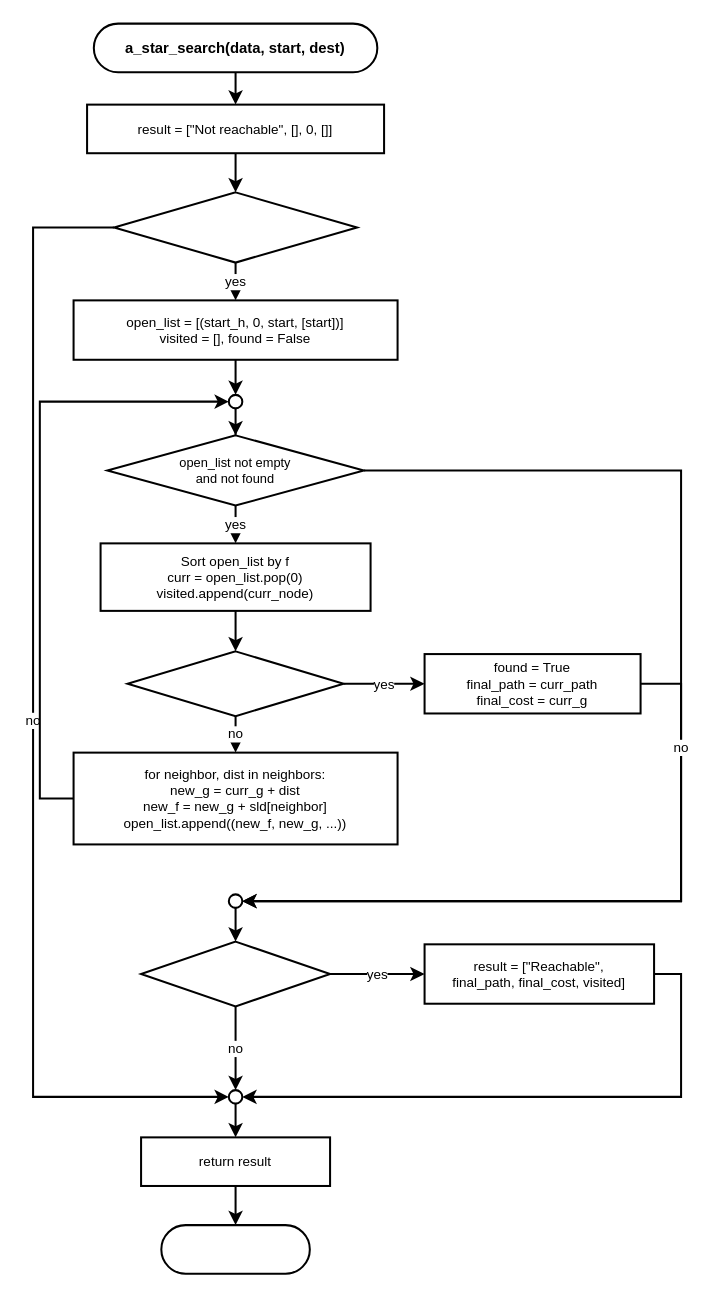
Image size: 717x1299. Some labels were removed from this diagram. Here are the shapes that lost their labels. From the top down, the centre of each, then its label:
(234,227): start in data and dest in data
(235,683): curr_node == dest
(234,973): found is True
(235,1249): Return
